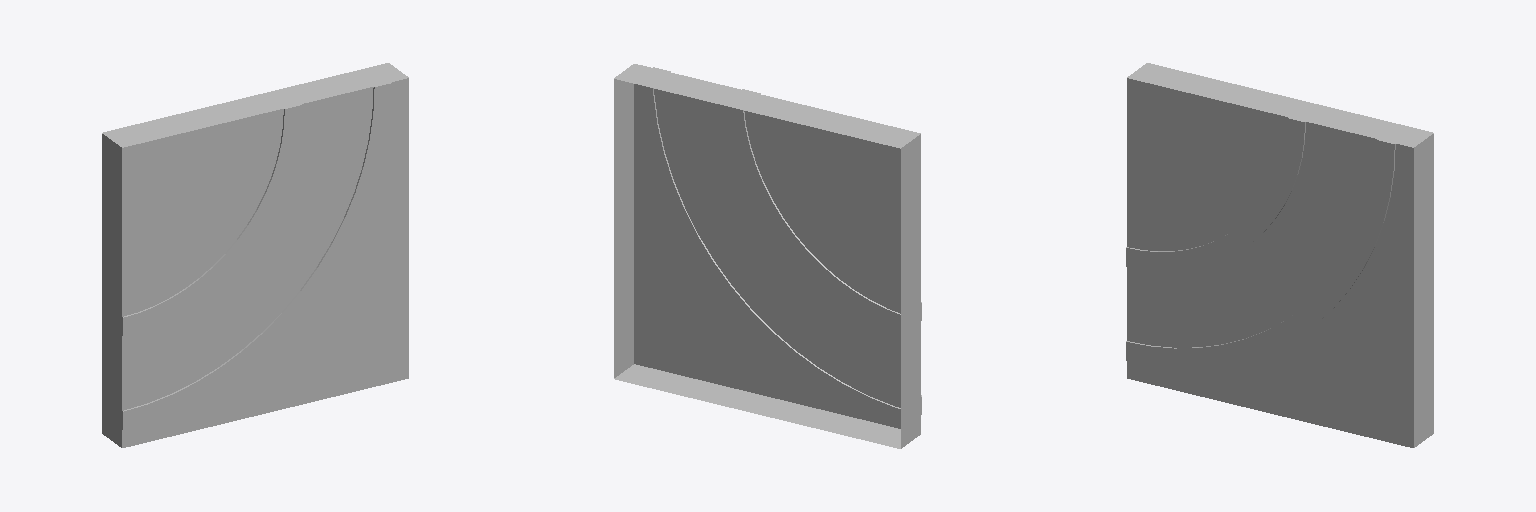
The model's file is track-corner-large.obj.
The picture shows the model from 3 angles: view 1: azimuth 30°, elevation 25°; view 2: azimuth 150°, elevation 25°; view 3: azimuth 330°, elevation 25°; orthographic projection.
Visible parts, largest first — view 1: track-corner-large_Cube.061; view 2: track-corner-large_Cube.061; view 3: track-corner-large_Cube.061.
Part boxes in pixels (x1,y1,x2,y2): track-corner-large_Cube.061: (102, 63, 408, 447); track-corner-large_Cube.061: (614, 64, 921, 448); track-corner-large_Cube.061: (1126, 63, 1433, 447).
Bounding box in the file's own units: 16 × 16 × 2.1.